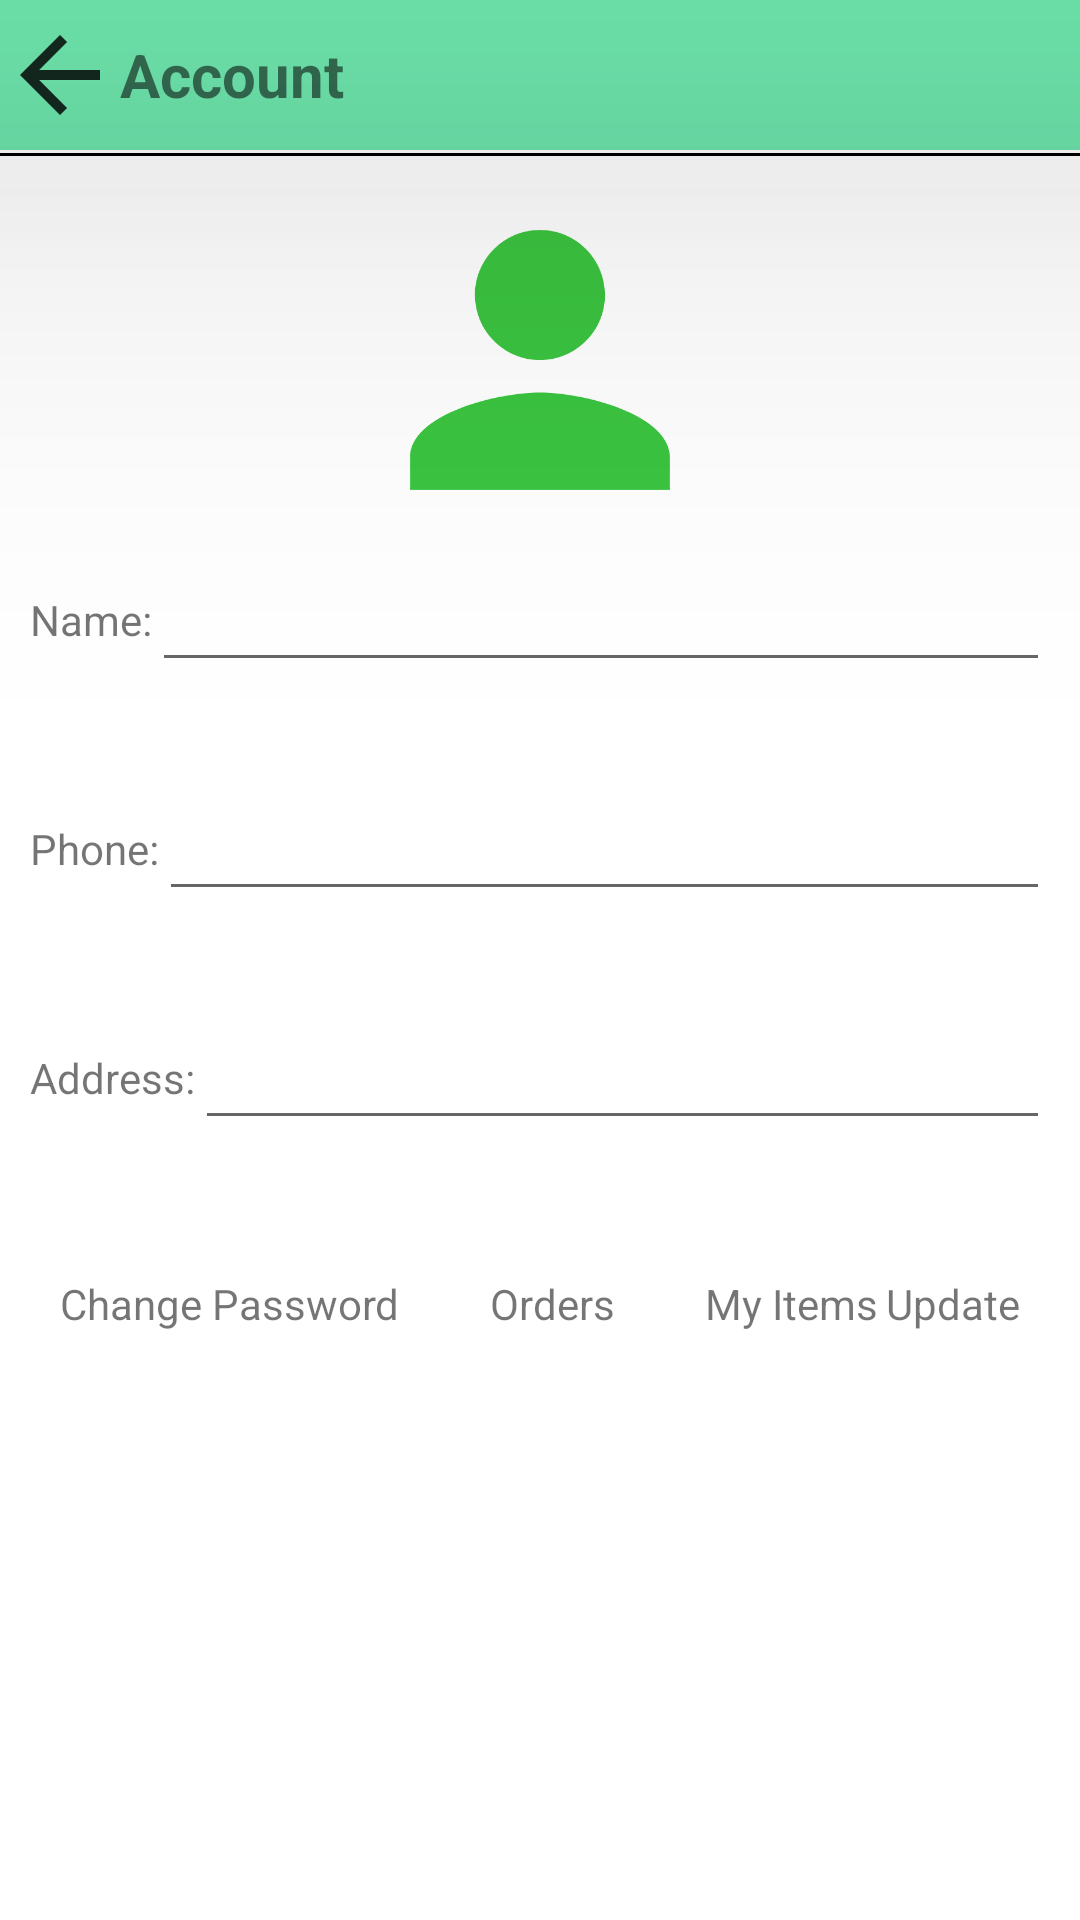

Where to tap for icons on this 1080x1920 app screen, as (x,y):
back: (60,75)
person: (540,360)
